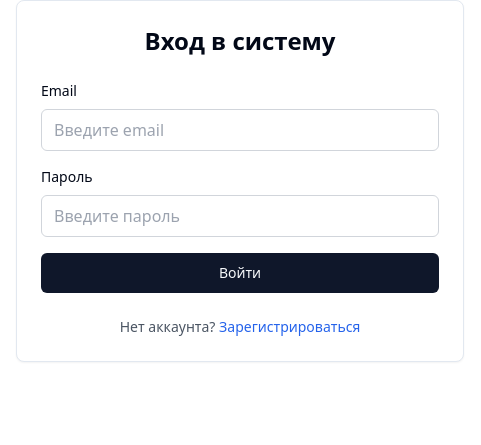
SignInForm › displays error message for invalid credentials
Type "test@example.com" into the field labelled "Email" at point(240, 130), box 41,109 -> 439,151
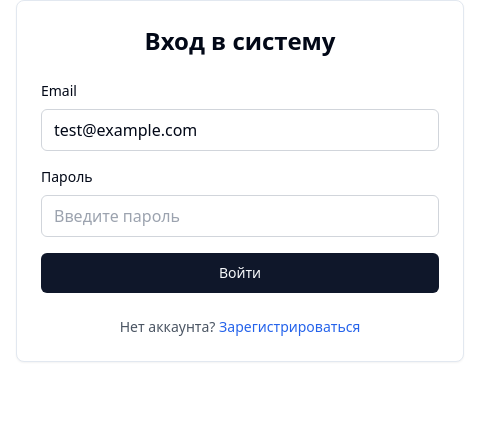
Type "wrongpassword" into the password field labelled "Пароль" at point(240, 216), box 41,195 -> 439,237
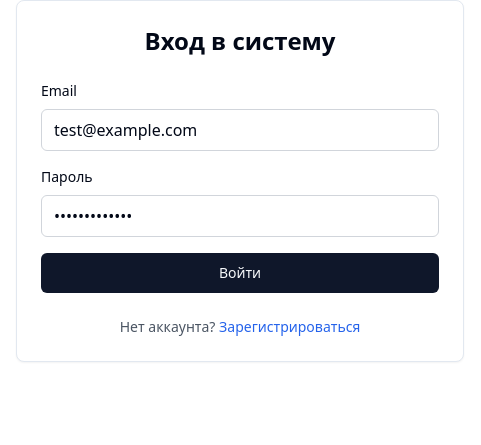
Click the button "Войти" at point(240, 273), box 41,253 -> 439,293
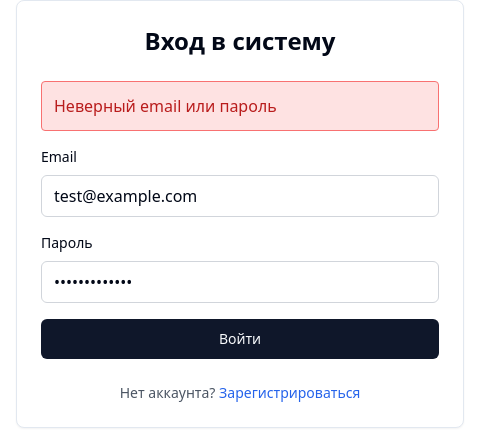
Now the text "Неверный email или пароль" is shown, box 41,81 -> 439,131
